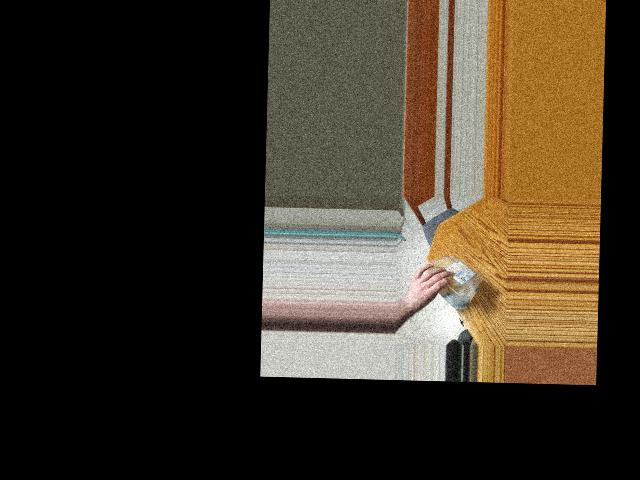cheese: (417, 254, 482, 308)
